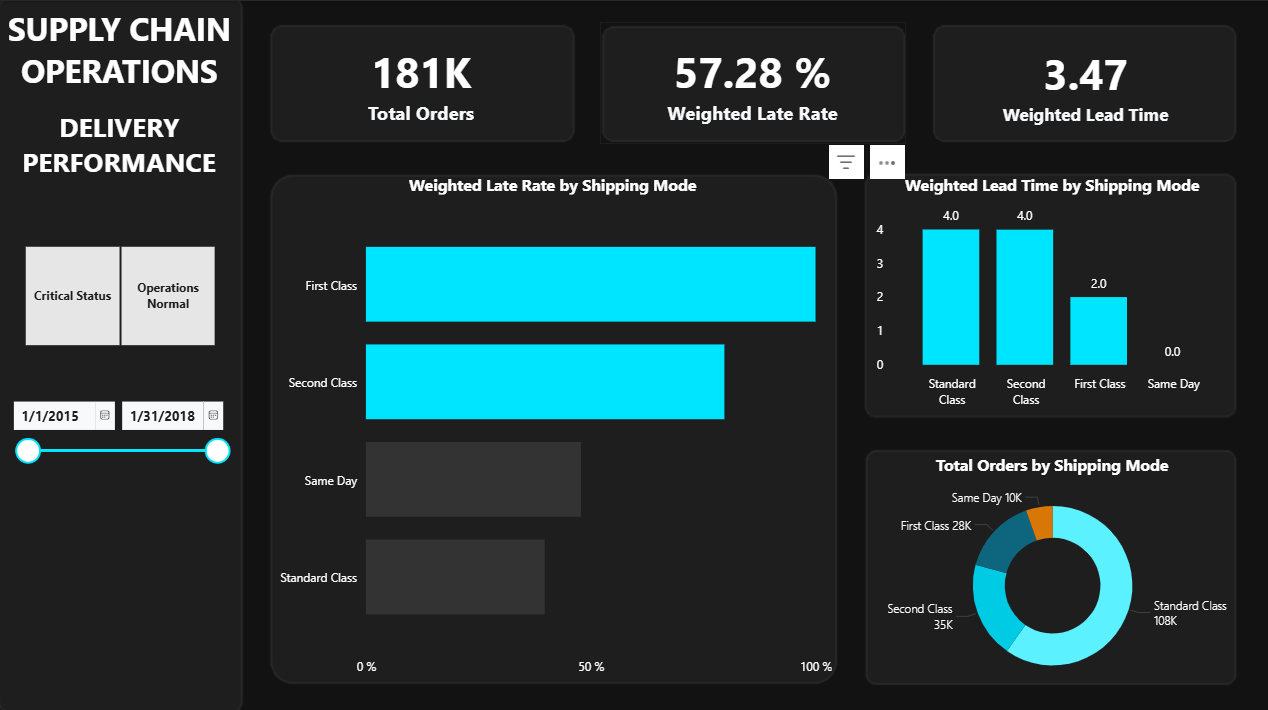

The dashboard page shown, as its layout file describes it:
{"tool":"powerbi","page":{"name":"Page 1","canvas":[1280,720],"ordinal":0},"visuals":[{"type":"card","fields":{"Values":["Measure.Total Orders"]},"box":[271,21.2,307.4,122.7],"z":0},{"type":"card","fields":{"Values":["Measure.Weihted_Lead_Time"]},"box":[941.8,22.7,307.4,122.7],"z":1000},{"type":"card","fields":{"Values":["Measure.Weighted_Late_Rate"]},"box":[606.4,21.2,307.4,122.7],"z":2000},{"type":"clusteredBarChart","title":"Weighted Late Rate by Shipping Mode","fields":{"Category":["public v_supply_chain_performance.Shipping Mode"],"Y":["Measure.Weighted_Late_Rate"]},"box":[271,174.1,573.9,516.3],"z":3000},{"type":"clusteredColumnChart","title":"Weighted Lead Time by Shipping Mode","fields":{"Category":["public v_supply_chain_performance.Shipping Mode"],"Y":["Measure.Weihted_Lead_Time"]},"box":[875.2,174.1,374,243.8],"z":4000},{"type":"donutChart","fields":{"Category":["public v_supply_chain_performance.Shipping Mode"],"Y":["Measure.Total Orders"]},"box":[875.2,457.3,374,243.8],"z":5000},{"type":"slicer","fields":{"Values":["public v_supply_chain_performance.Status_Label"]},"box":[0,240.8,240.8,113.6],"z":6000},{"type":"textbox","box":[0,0,240.8,195.3],"z":7000},{"type":"slicer","fields":{"Values":["public v_supply_chain_performance.order_date"]},"box":[0,393.7,240.8,77.2],"z":8000}]}

Visuals, with their boxes in screenshot pixels (x1, y1, x2, y2), scaled from the page's 1280x720 canvas onto the 1268x710 screenshot:
card - Measure.Total Orders: {"left": 268, "top": 21, "right": 573, "bottom": 142}
card - Measure.Weihted_Lead_Time: {"left": 933, "top": 22, "right": 1237, "bottom": 143}
card - Measure.Weighted_Late_Rate: {"left": 601, "top": 21, "right": 905, "bottom": 142}
"Weighted Late Rate by Shipping Mode" clusteredBarChart: {"left": 268, "top": 172, "right": 837, "bottom": 681}
"Weighted Lead Time by Shipping Mode" clusteredColumnChart: {"left": 867, "top": 172, "right": 1237, "bottom": 412}
donutChart - public v_supply_chain_performance.Shipping Mode x Measure.Total Orders: {"left": 867, "top": 451, "right": 1237, "bottom": 691}
slicer - public v_supply_chain_performance.Status_Label: {"left": 0, "top": 237, "right": 239, "bottom": 349}
textbox: {"left": 0, "top": 0, "right": 239, "bottom": 193}
slicer - public v_supply_chain_performance.order_date: {"left": 0, "top": 388, "right": 239, "bottom": 464}
